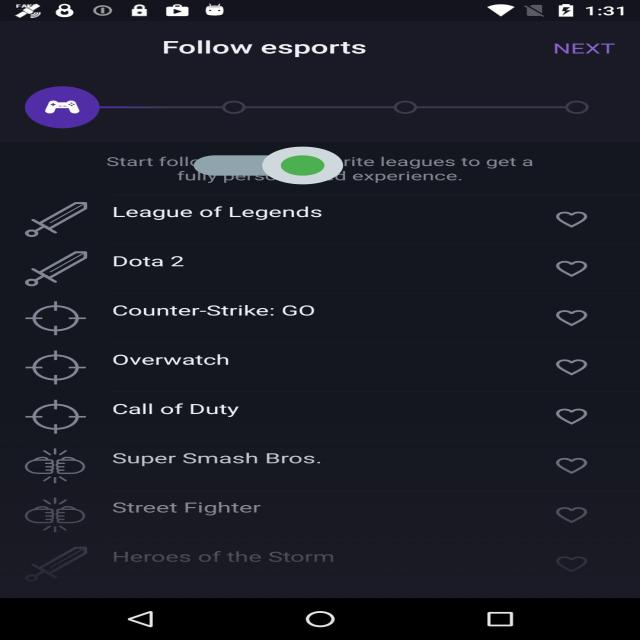social proof: (194, 131, 343, 200)
